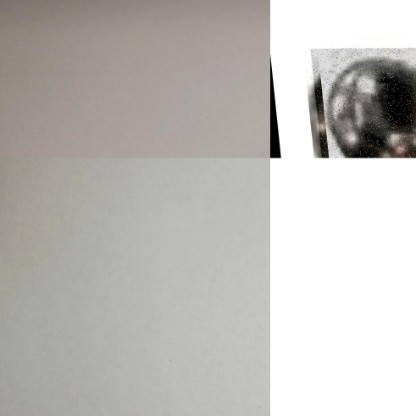ironball: (306, 47, 415, 158)
